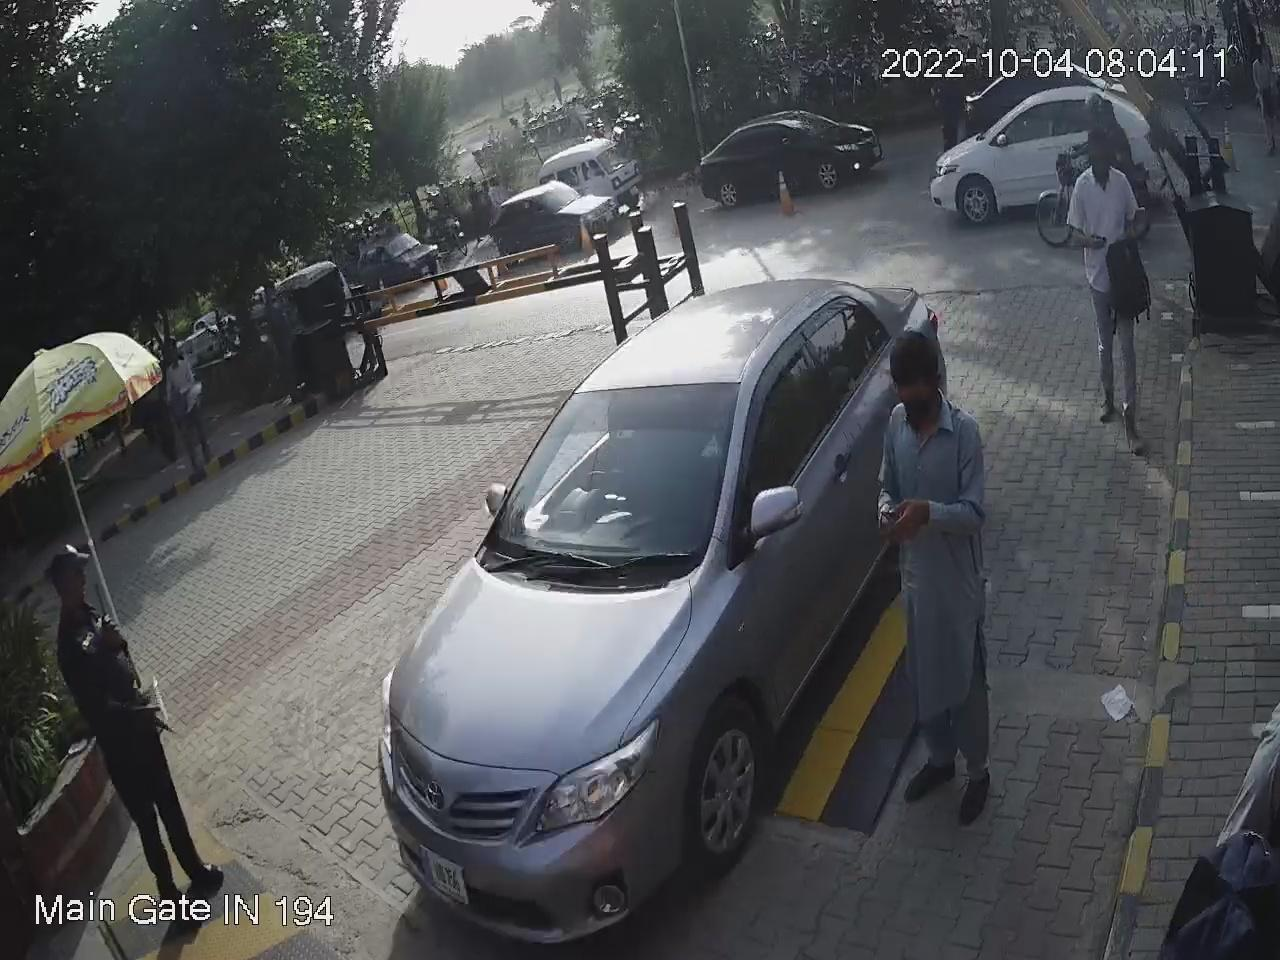windshield: (473, 377, 741, 585)
